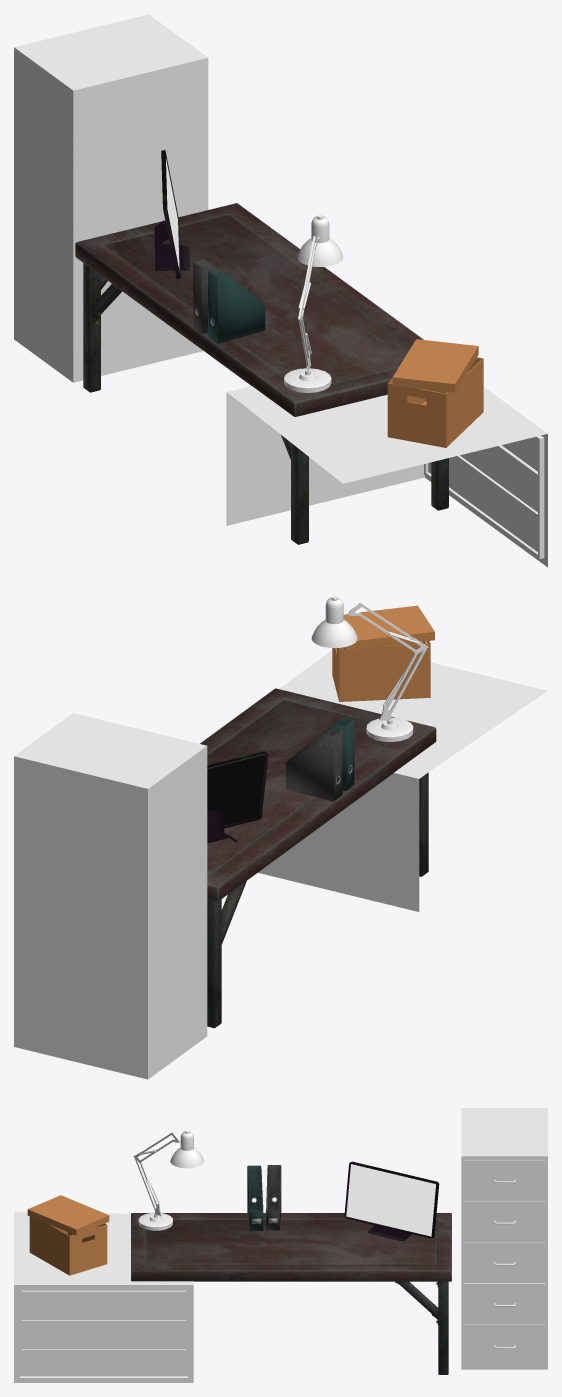
The picture shows the model from 3 angles, top to bottom: view 1: azimuth 30°, elevation 25°; view 2: azimuth 150°, elevation 25°; view 3: azimuth 270°, elevation 25°; orthographic projection. The views are drawn at different scales.
Visible parts, largest first — view 1: FileStorage_Cube.001, Table_Rough, desktop.2_Baked, Box02_Cube.001, Box02Cap_Cube.001, FileBox_Green, TableLamp_Cylinder.001, Monitor COMBINED_Baked, FileBox_Black; view 2: FileStorage_Cube.001, desktop.2_Baked, Table_Rough, Box02_Cube.001, Monitor COMBINED_Baked, TableLamp_Cylinder.001, FileBox_Black, Box02Cap_Cube.001, FileBox_Green; view 3: FileStorage_Cube.001, desktop.2_Baked, Table_Rough, Screenplaceholder, Box02_Cube.001, TableLamp_Cylinder.001, Box02Cap_Cube.001, Monitor COMBINED_Baked, FileBox_Green, FileBox_Black.
Part boxes in pixels (left/top/right/bottom): FileStorage_Cube.001: left=14, top=14, right=208, bottom=382; Table_Rough: left=75, top=203, right=448, bottom=544; desktop.2_Baked: left=226, top=386, right=547, bottom=567; Box02_Cube.001: left=387, top=357, right=483, bottom=447; Box02Cap_Cube.001: left=392, top=339, right=478, bottom=392; FileBox_Green: left=208, top=268, right=265, bottom=343; TableLamp_Cylinder.001: left=284, top=215, right=343, bottom=392; Monitor COMBINED_Baked: left=154, top=150, right=189, bottom=278; FileBox_Black: left=193, top=259, right=216, bottom=333; FileStorage_Cube.001: left=14, top=713, right=207, bottom=1079; desktop.2_Baked: left=258, top=650, right=547, bottom=911; Table_Rough: left=200, top=688, right=436, bottom=1028; Box02_Cube.001: left=332, top=641, right=430, bottom=701; Monitor COMBINED_Baked: left=207, top=751, right=268, bottom=843; TableLamp_Cylinder.001: left=311, top=596, right=428, bottom=741; FileBox_Black: left=285, top=727, right=342, bottom=801; Box02Cap_Cube.001: left=343, top=605, right=434, bottom=650; FileBox_Green: left=296, top=716, right=354, bottom=791; FileStorage_Cube.001: left=461, top=1108, right=547, bottom=1369; desktop.2_Baked: left=14, top=1212, right=193, bottom=1382; Table_Rough: left=131, top=1213, right=451, bottom=1374; Screenplaceholder: left=346, top=1164, right=435, bottom=1236; Box02_Cube.001: left=29, top=1216, right=107, bottom=1275; TableLamp_Cylinder.001: left=133, top=1130, right=203, bottom=1230; Box02Cap_Cube.001: left=27, top=1195, right=109, bottom=1235; Monitor COMBINED_Baked: left=344, top=1161, right=439, bottom=1240; FileBox_Green: left=247, top=1165, right=263, bottom=1231; FileBox_Black: left=266, top=1165, right=281, bottom=1230.
Size of the model in its own units: 1.08 by 1.49 by 3.35.
6 materials, 3 textured.
